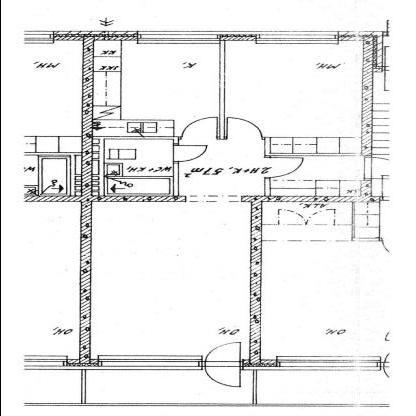door: (201, 340, 245, 391), (174, 115, 222, 141), (260, 154, 304, 180), (222, 116, 266, 141), (170, 143, 210, 164)
window: (270, 353, 388, 374), (94, 350, 205, 372), (251, 28, 342, 45), (132, 29, 222, 45)
